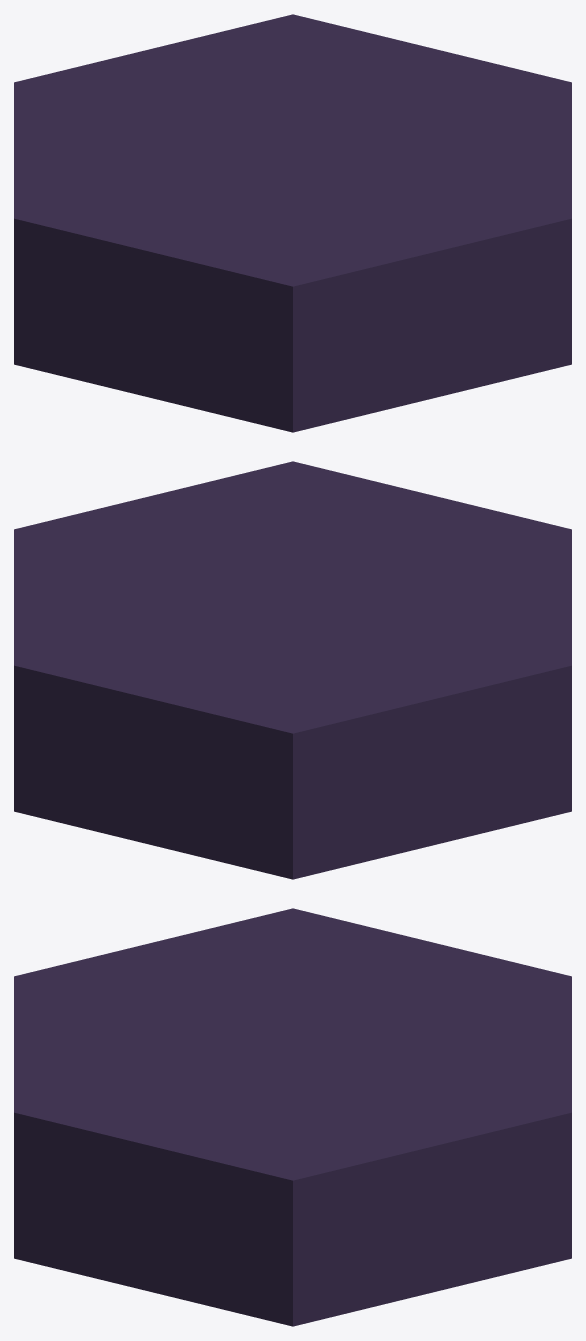
Rendered from hex_general.glb.
3 views of the same model, one above another, from view 1: azimuth 30°, elevation 25°; view 2: azimuth 150°, elevation 25°; view 3: azimuth 270°, elevation 25° (orthographic).
Visible parts, largest first — view 1: tile; view 2: tile; view 3: tile.
Boxes of the visible parts, x1,y1,x2,y2 form: tile: [14, 14, 571, 432]; tile: [14, 461, 571, 879]; tile: [14, 908, 571, 1326].
Size of the model in its own units: 2 by 0.5 by 1.73.
